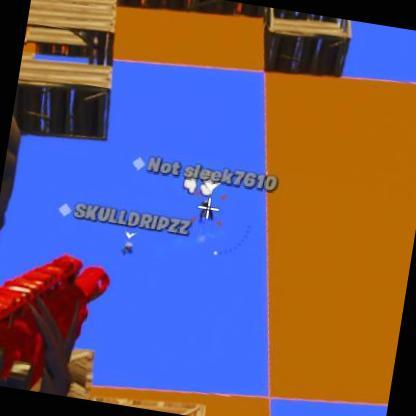person: (200, 197, 218, 224), (119, 238, 133, 252)
